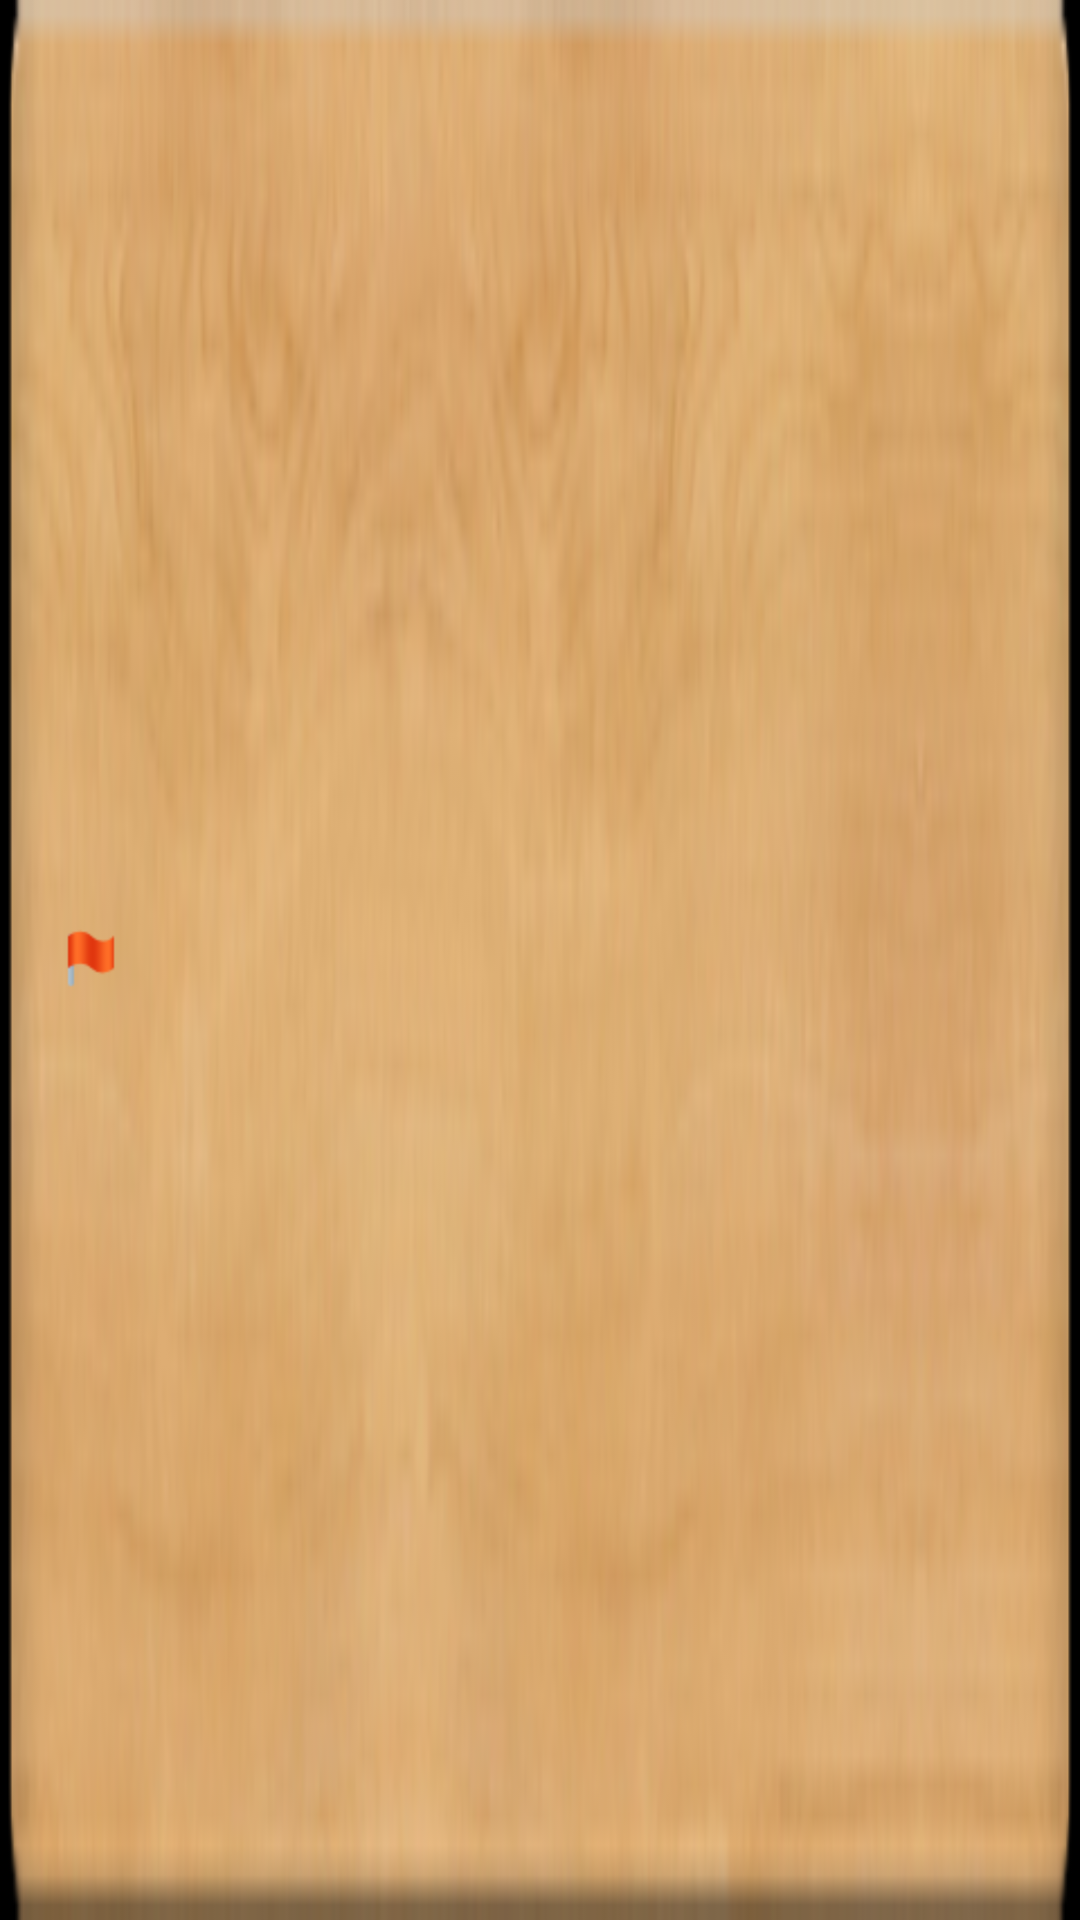

Point at icon controls on the screen. Image size 1080px x 1920px, points as [x,y].
mark date: [91,958]
